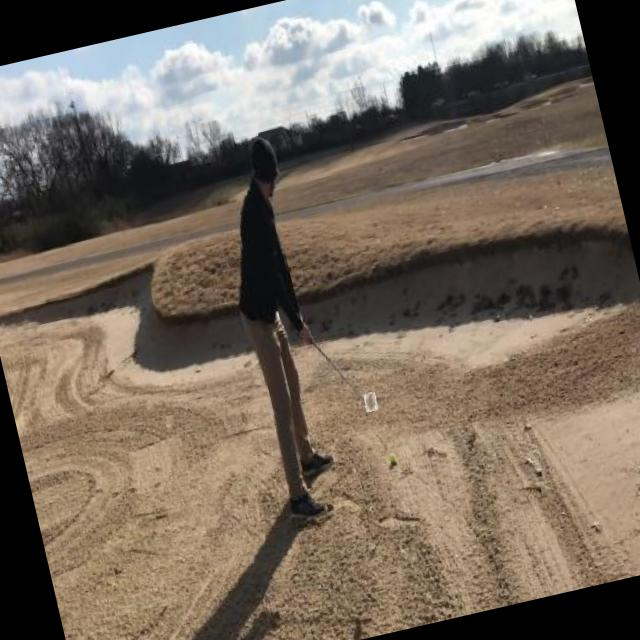club head: (362, 392, 378, 412)
